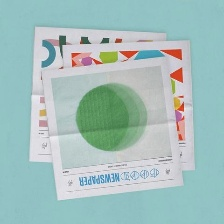news_paper: (39, 52, 185, 201), (23, 22, 170, 164), (56, 36, 198, 173)
